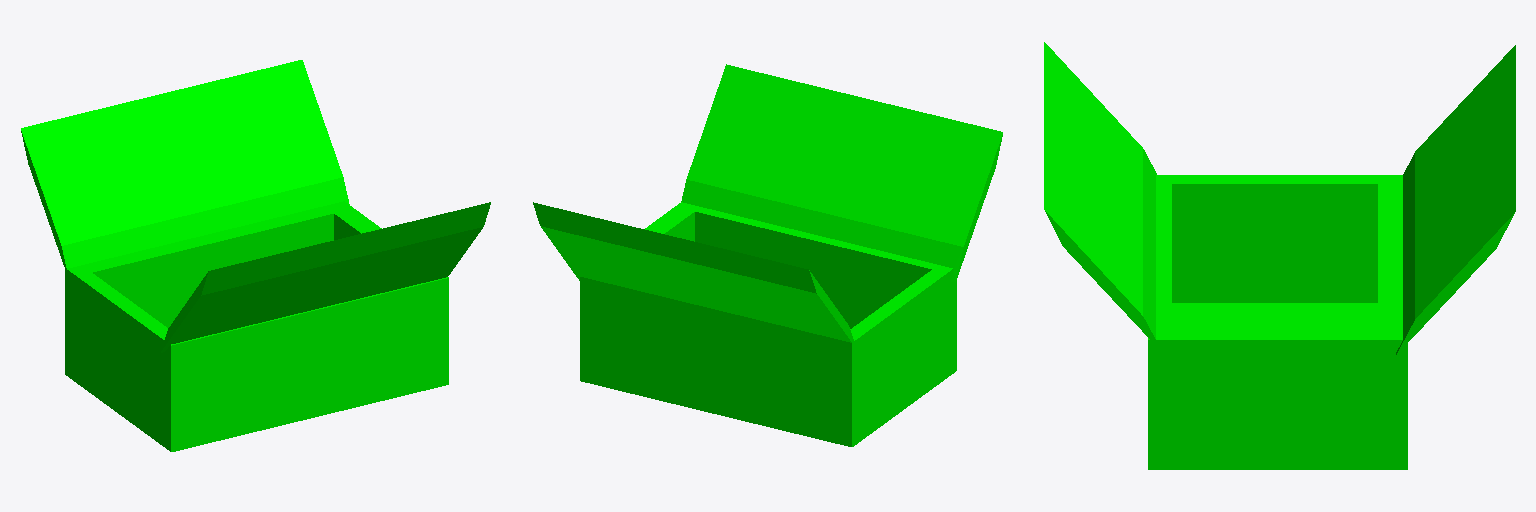
The robot description file, URDF, robot "other_box":
<?xml version="1.0" ?>
<robot name="other_box">
  <link name="baseLink">
    <contact>
      <lateral_friction value="1"/>
      <rolling_friction value="0"/>
      <contact_cfm value="0.0"/>
      <contact_erp value="1.0"/>
    </contact>
    <inertial>
      <origin rpy="0 0 1.5708" xyz="0.0 0.0 0.0"/>
       <mass value="0.2"/>
       <inertia ixx="1" ixy="0" ixz="0" iyy="1" iyz="0" izz="1"/>
    </inertial>
    <visual>
      <origin rpy="0 0 0" xyz="0 0 0"/>
      <geometry>
        <mesh filename="other_box.obj" scale="1 1 1"/>
      </geometry>
       <material name="green">
        <color rgba="0.0 1.0 0.0 1"/>
      </material>
    </visual>
    <collision>
      <origin rpy="0 0 0" xyz="0 0 0"/>
      <geometry>
             <mesh filename="other_box.obj" scale="1 1 1"/>
      </geometry>
    </collision>
  </link>
</robot>

--- Render facts (derived) ---
The picture shows the robot from 3 angles, left to right: view 1: azimuth 30°, elevation 25°; view 2: azimuth 150°, elevation 25°; view 3: azimuth 270°, elevation 25°; orthographic projection.
Robot: other_box — 1 links, 0 joints (none); root link baseLink; default pose: all joints at 0.
Links seen in each view (by area): view 1: baseLink; view 2: baseLink; view 3: baseLink.
Boxes of the visible links, x1=… form: baseLink: x1=21, y1=60, x2=490, y2=451; baseLink: x1=533, y1=64, x2=1002, y2=446; baseLink: x1=1044, y1=42, x2=1515, y2=469.
Bounding box of the posed robot: 0.1436 × 0.1675 × 0.1022 m (x, y, z).
1 mesh visuals loaded from 1 distinct referenced files (1 OBJ).
